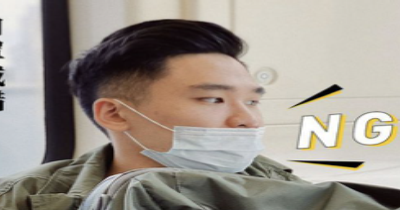mask_weared_incorrect: (139, 81, 267, 173)
